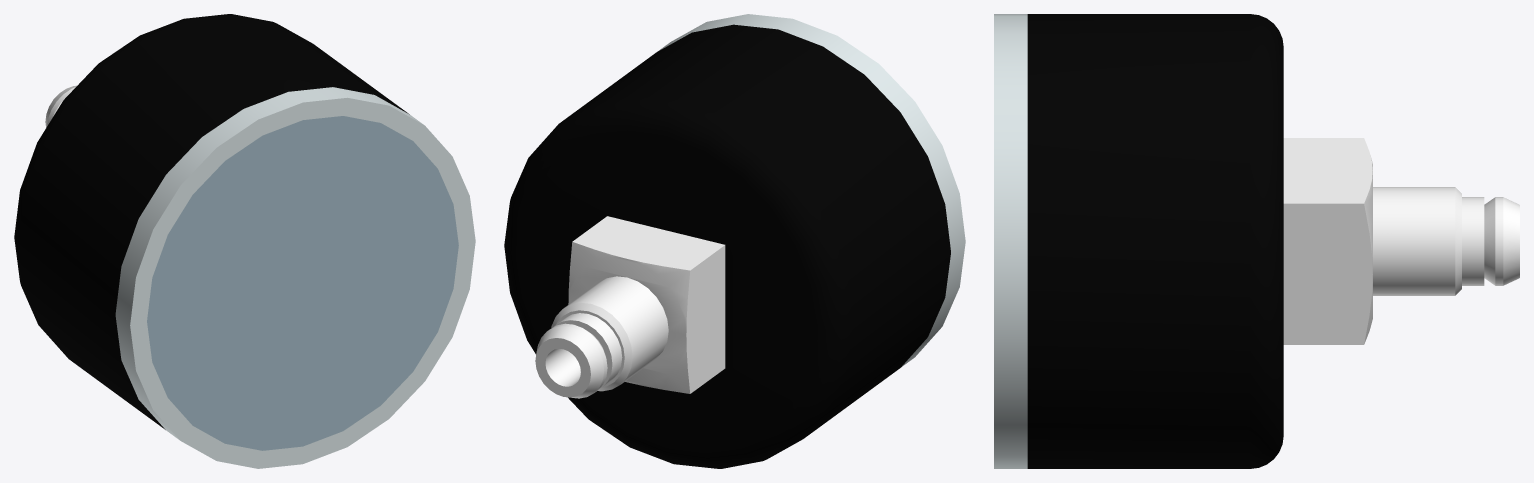
The model's file is Gauge.fbx.
3 views of the same model, side by side, from view 1: azimuth 30°, elevation 25°; view 2: azimuth 150°, elevation 25°; view 3: azimuth 270°, elevation 25° (orthographic). The views are drawn at different scales.
Visible parts, largest first — view 1: Group_001; view 2: Group_001; view 3: Group_001.
Part boxes in pixels (box(x1,y1,x2,y2)): Group_001: box(14, 14, 475, 468); Group_001: box(504, 14, 965, 468); Group_001: box(994, 14, 1519, 468).
Bounding box in the file's own units: 41 × 41 × 47.2.
